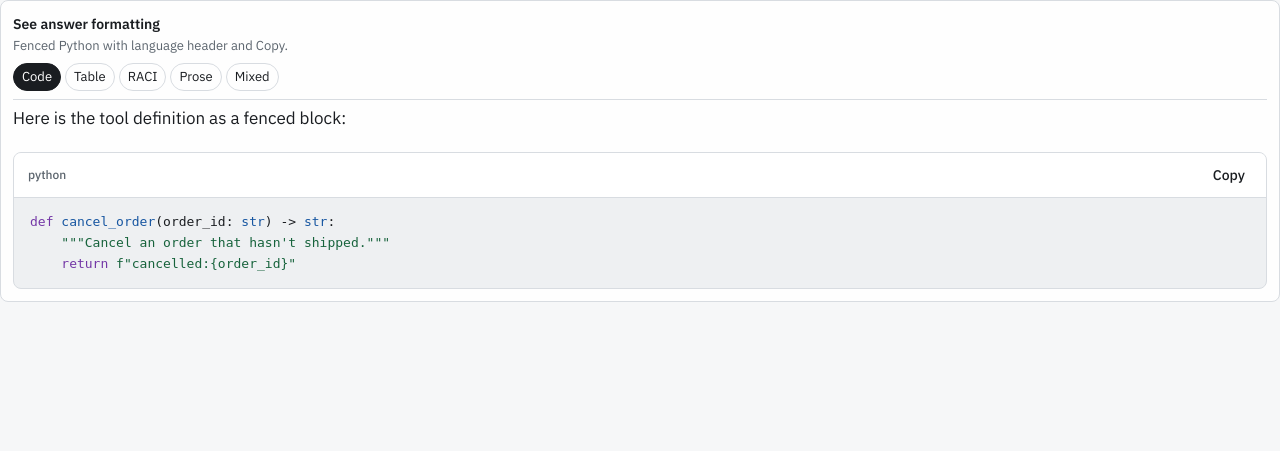
Test case: AnswerFormatGallery › renders the RACI sample as a table with Hallucination rates
The width and height of the screenshot is (1280, 451).
Click the tab "RACI". click: click(143, 77)
box: [119, 63, 166, 91]
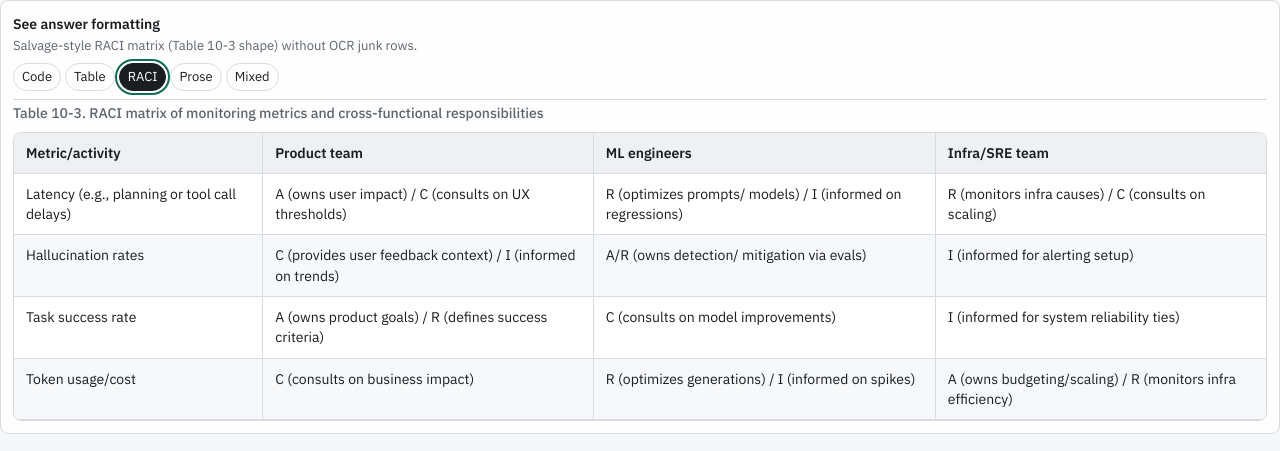
Check: the text "Hallucination rates" is shown, box [26, 246, 144, 264]
Check: the table is shown
